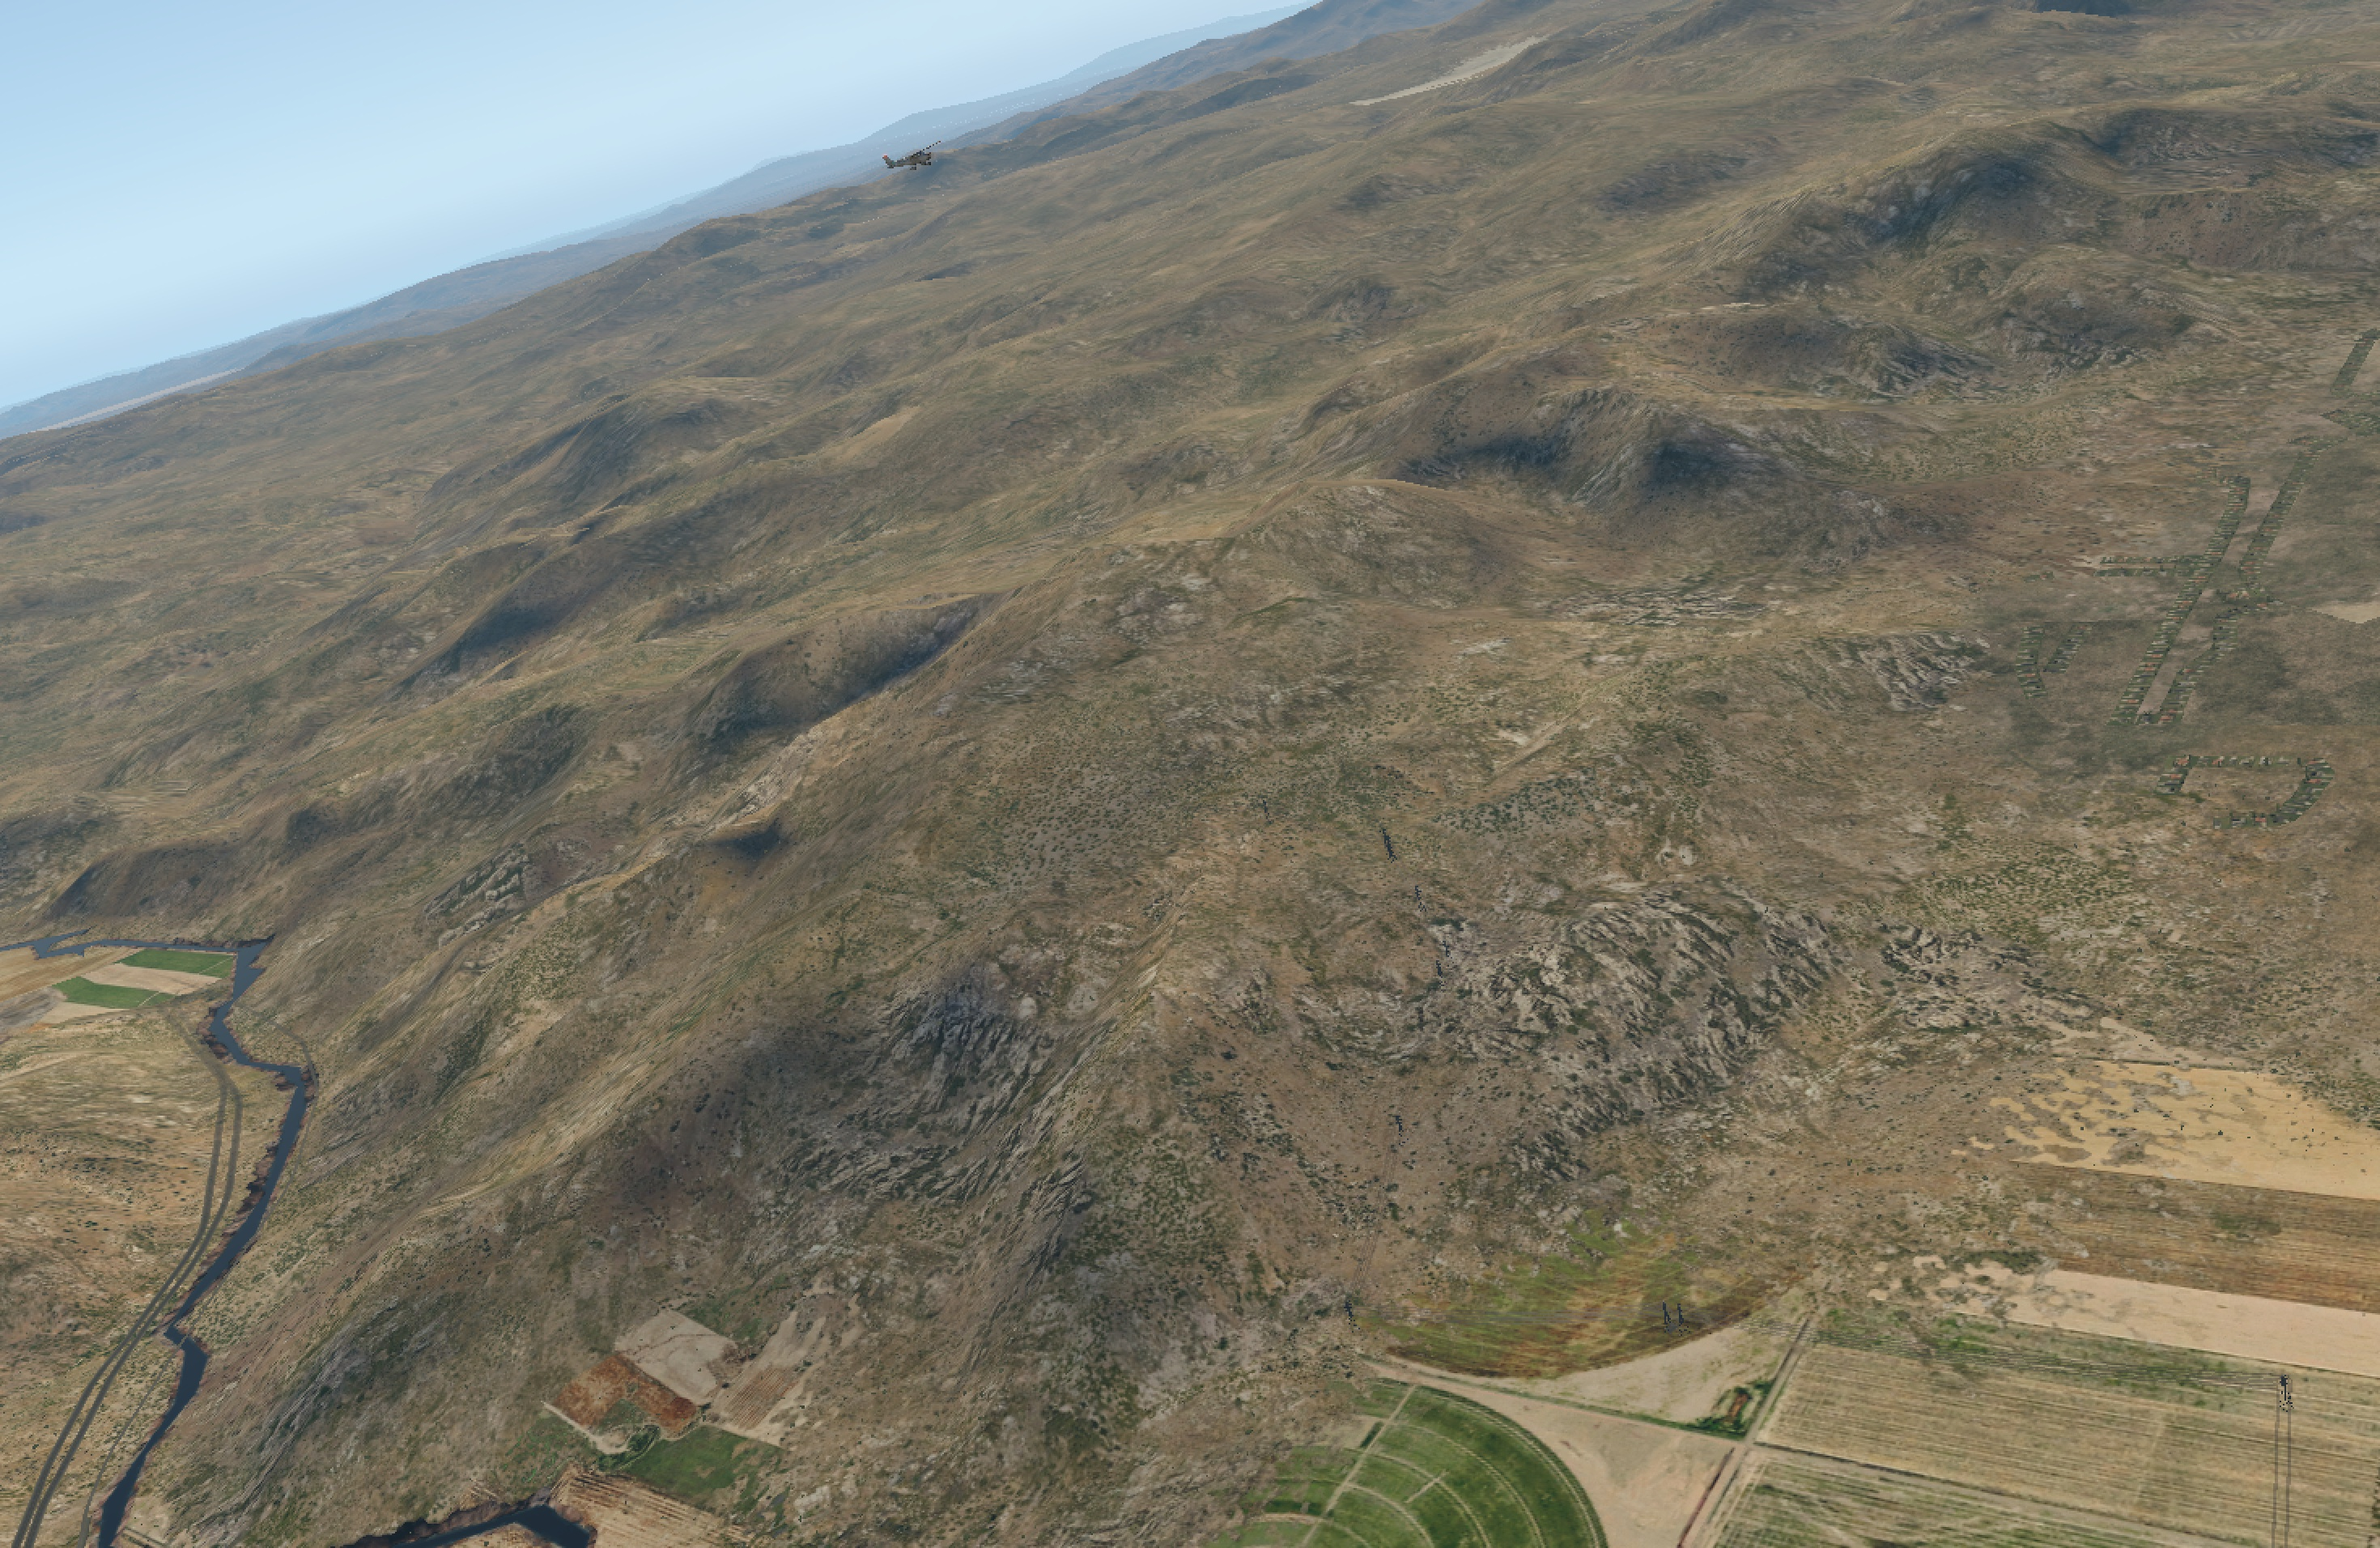aircraft: (890, 148, 945, 168)
